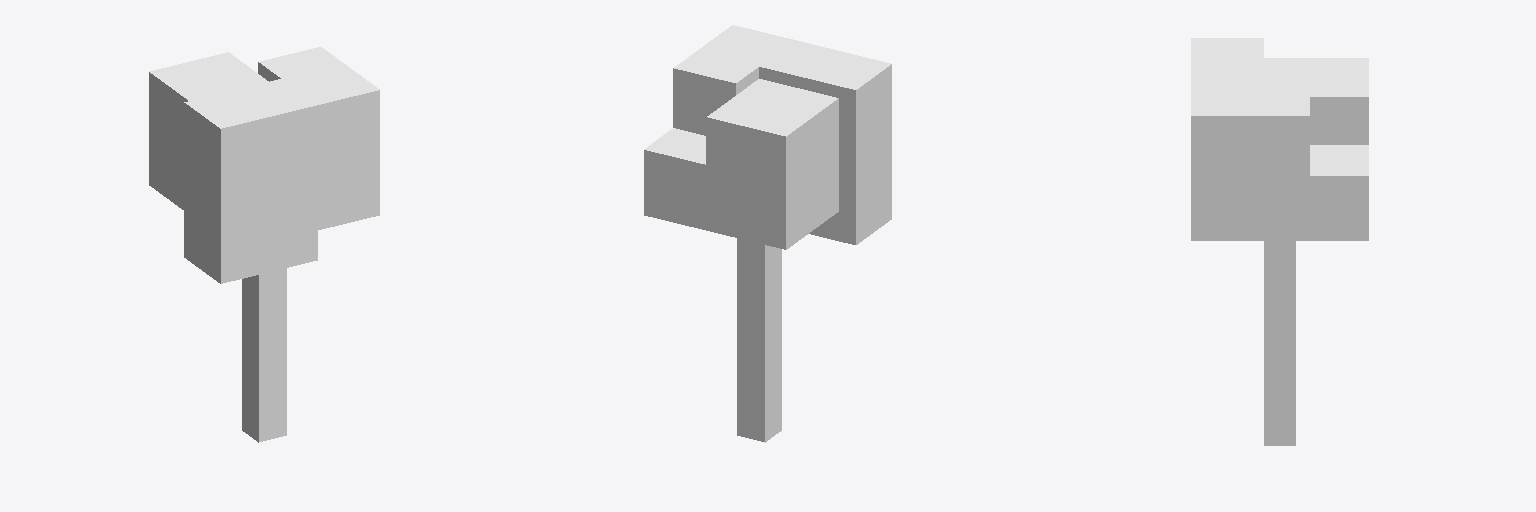
File: Boom2.obj
3 views of the same model, side by side, from view 1: azimuth 30°, elevation 25°; view 2: azimuth 150°, elevation 25°; view 3: azimuth 270°, elevation 25° (orthographic).
Parts seen in each view (by area): view 1: object 1; view 2: object 1; view 3: object 1.
Part boxes in pixels (x1,y1,x2,y2): object 1: (149, 47, 379, 442); object 1: (644, 25, 891, 442); object 1: (1191, 38, 1368, 445).
Bounding box in the file's own units: 2.8 × 6 × 2.7.